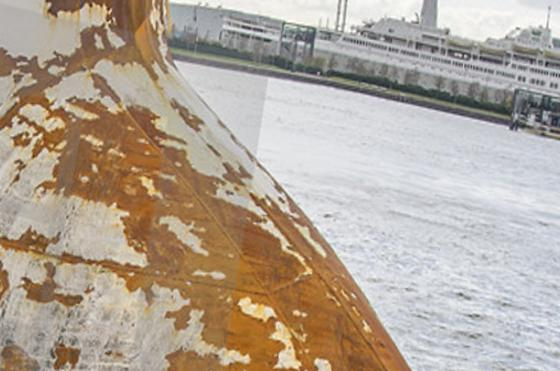rust: (1, 41, 194, 217), (160, 332, 413, 370), (207, 221, 297, 291), (312, 239, 373, 322), (39, 1, 175, 34), (12, 263, 95, 313), (41, 337, 102, 371)
